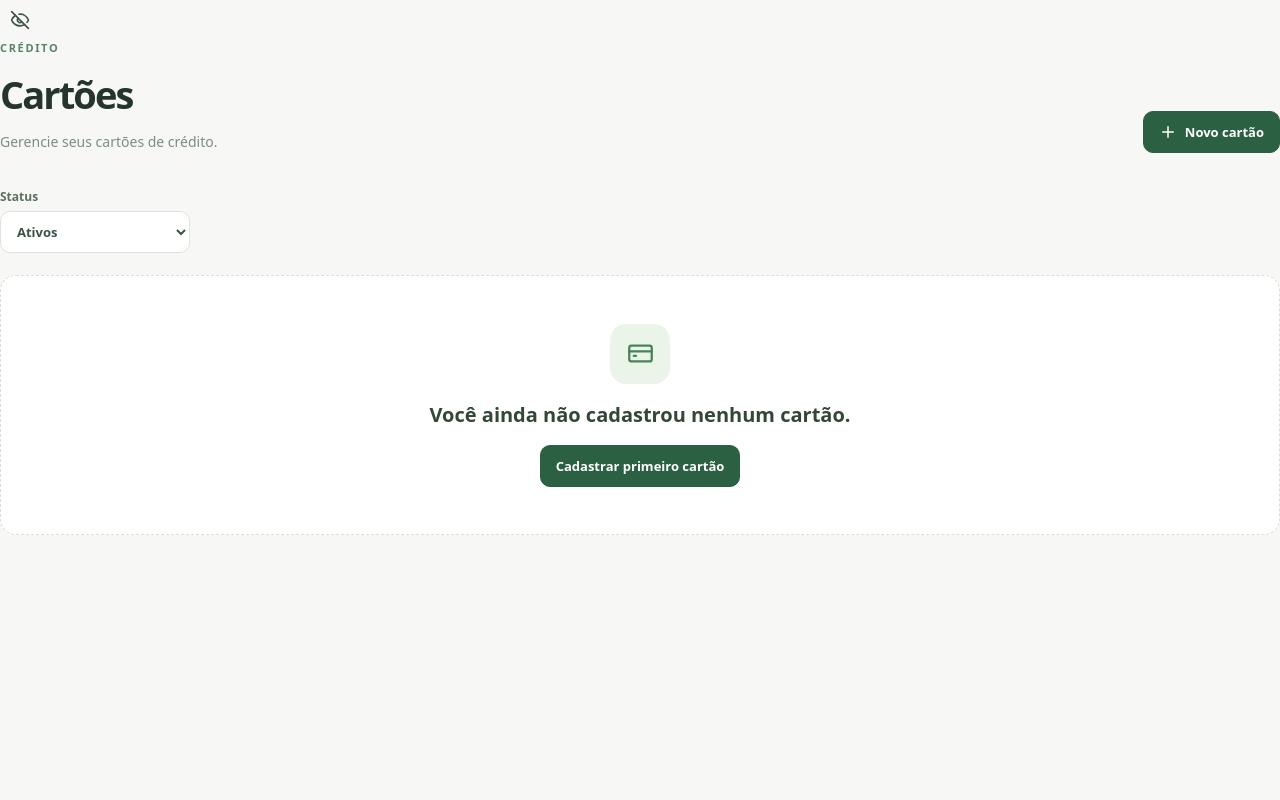
2: empty state offers the first card form
Expected: the heading "Você ainda não cadastrou nenhum cartão." is shown, [430,401,850,428]
Click the button "Cadastrar primeiro cartão" at (640, 466), box [540,445,740,487]
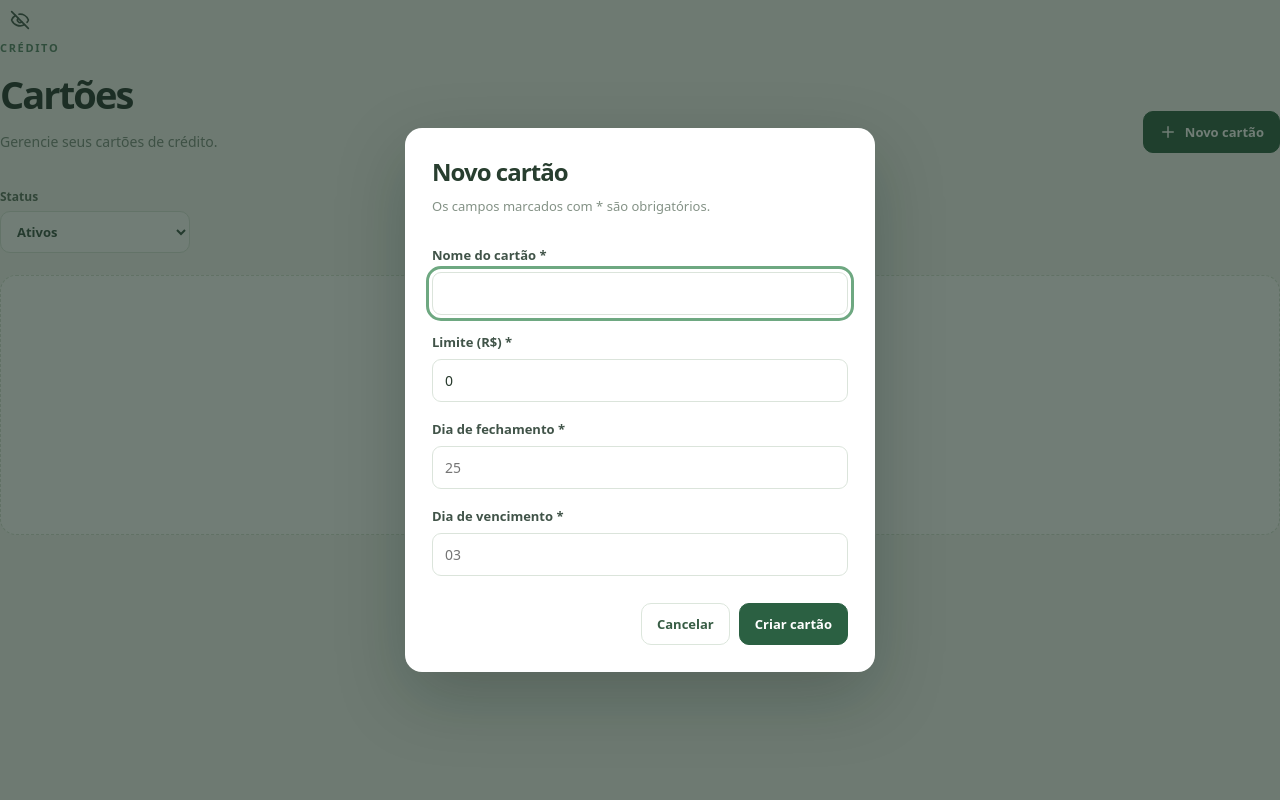
Result: the dialog is shown at [405,128,875,672]
